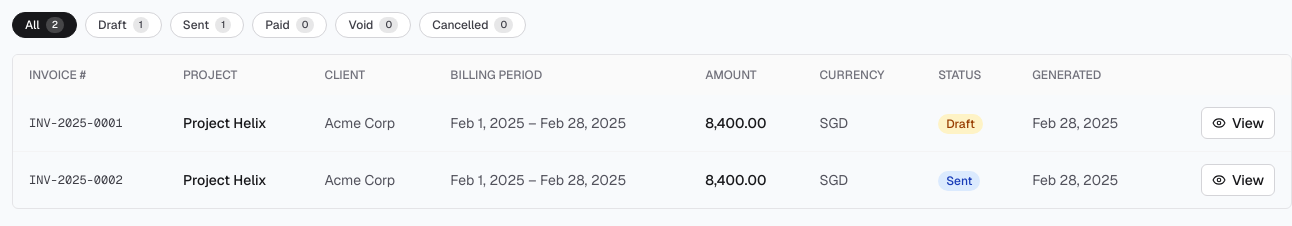
Test: InvoicesTable › filters rows by status when a status tab is selected
The image size is (1292, 226).
expect the text "INV-2025-0001" is shown: met, box [13, 95, 167, 152]
What coordinates should you click on to do the following:
click the tab "Draft 1"
I would click on:
 (123, 25)
Its box is [85, 12, 162, 38].
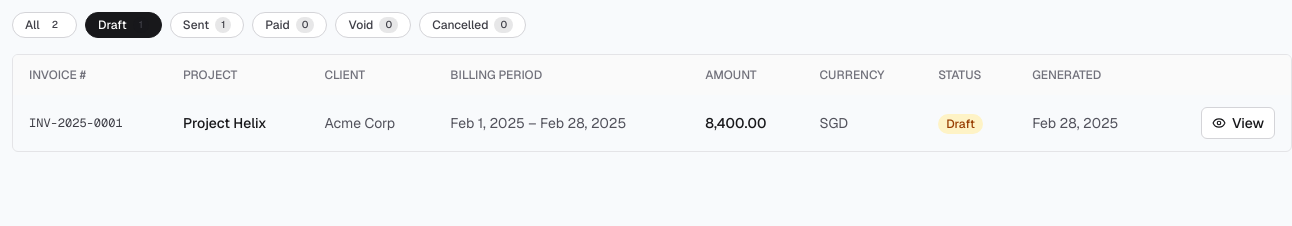
expect the text "INV-2025-0001" is shown: met, box [13, 95, 167, 151]
expect the text "INV-2025-0002" is gone: met
